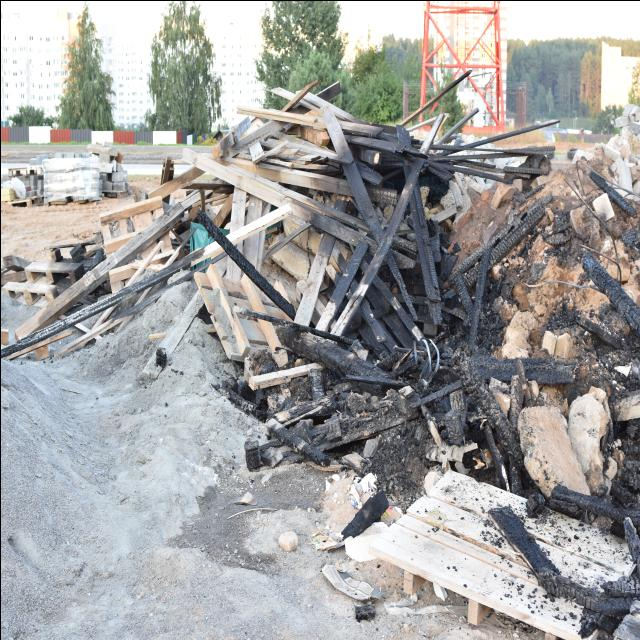entulho: (229, 80, 424, 362), (373, 458, 640, 640), (2, 250, 108, 348), (100, 187, 202, 269), (236, 271, 284, 345), (34, 152, 100, 202), (222, 118, 282, 158), (87, 142, 128, 196), (146, 164, 204, 200), (9, 163, 44, 203), (43, 238, 100, 254)
terra: (464, 164, 640, 390)
